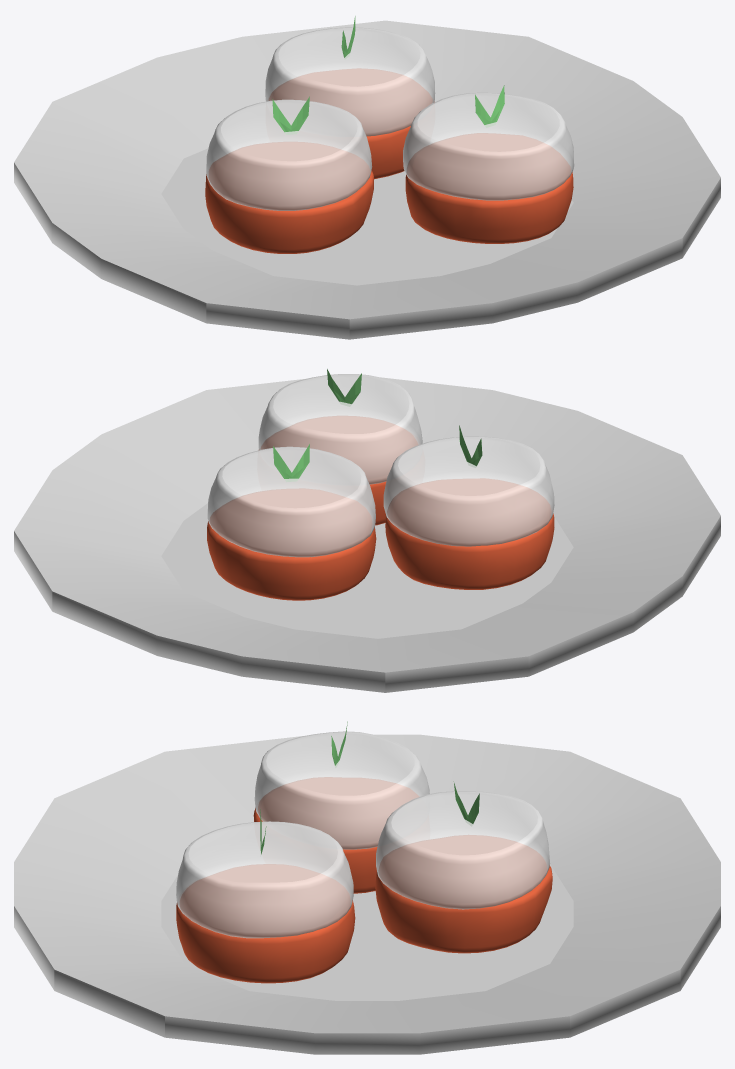
File: Kue Talam.fbx
3 views of the same model, one above another, from view 1: azimuth 30°, elevation 25°; view 2: azimuth 150°, elevation 25°; view 3: azimuth 270°, elevation 25° (orthographic). The views are drawn at different scales.
Visible parts, largest first — view 1: Cube; view 2: Cube; view 3: Cube.
Boxes of the visible parts, x1=… form: Cube: x1=14, y1=16, x2=720, y2=339; Cube: x1=14, y1=369, x2=720, y2=692; Cube: x1=14, y1=721, x2=720, y2=1054.
Size of the model in its own units: 212 by 52.55 by 212.
